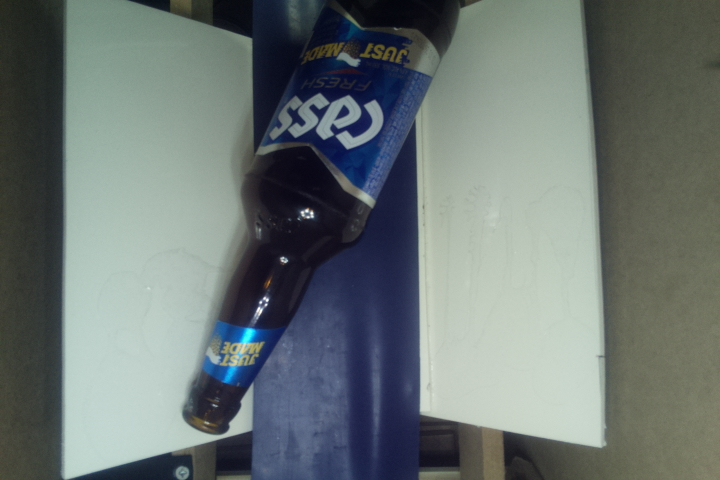makju: (179, 1, 463, 438)
